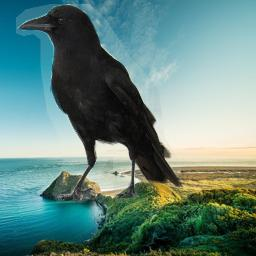Crow: (16, 4, 183, 203)
